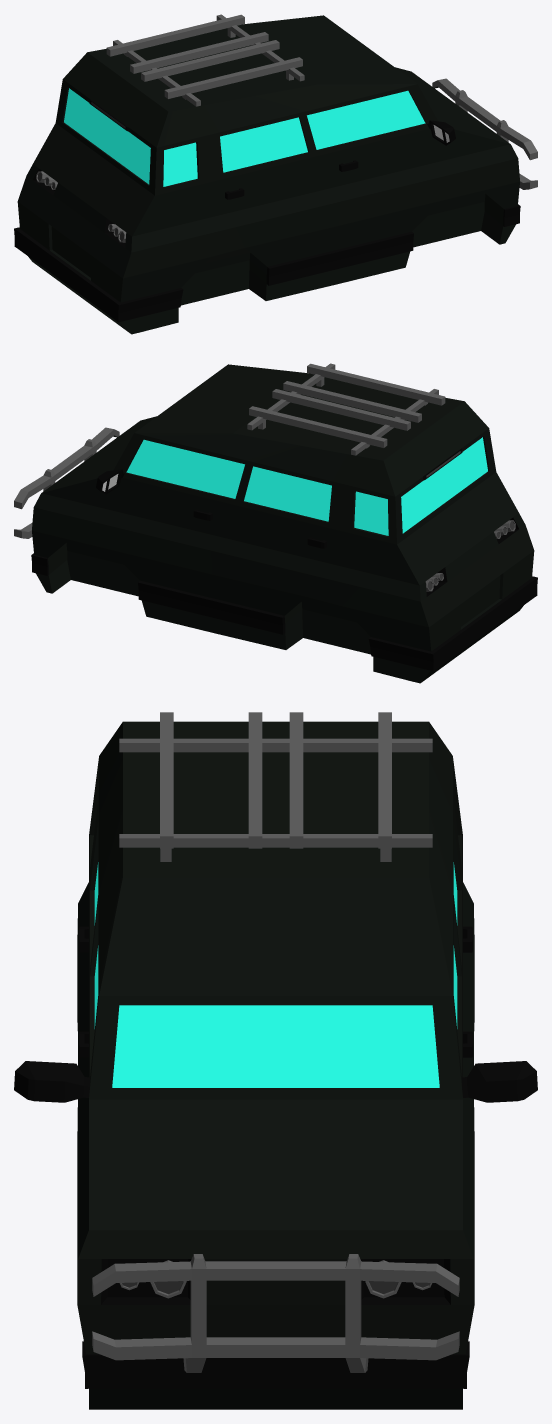
The model's file is SM_Car.FBX.
The picture shows the model from 3 angles, top to bottom: view 1: azimuth 30°, elevation 25°; view 2: azimuth 150°, elevation 25°; view 3: azimuth 270°, elevation 25°; orthographic projection. The views are drawn at different scales.
Visible parts, largest first — view 1: SM_Car; view 2: SM_Car; view 3: SM_Car.
Part boxes in pixels (left/top/right/bottom): SM_Car: left=14, top=14, right=537, bottom=334; SM_Car: left=14, top=363, right=537, bottom=683; SM_Car: left=14, top=712, right=537, bottom=1409.
Size of the model in its own units: 213 by 121 by 103.
